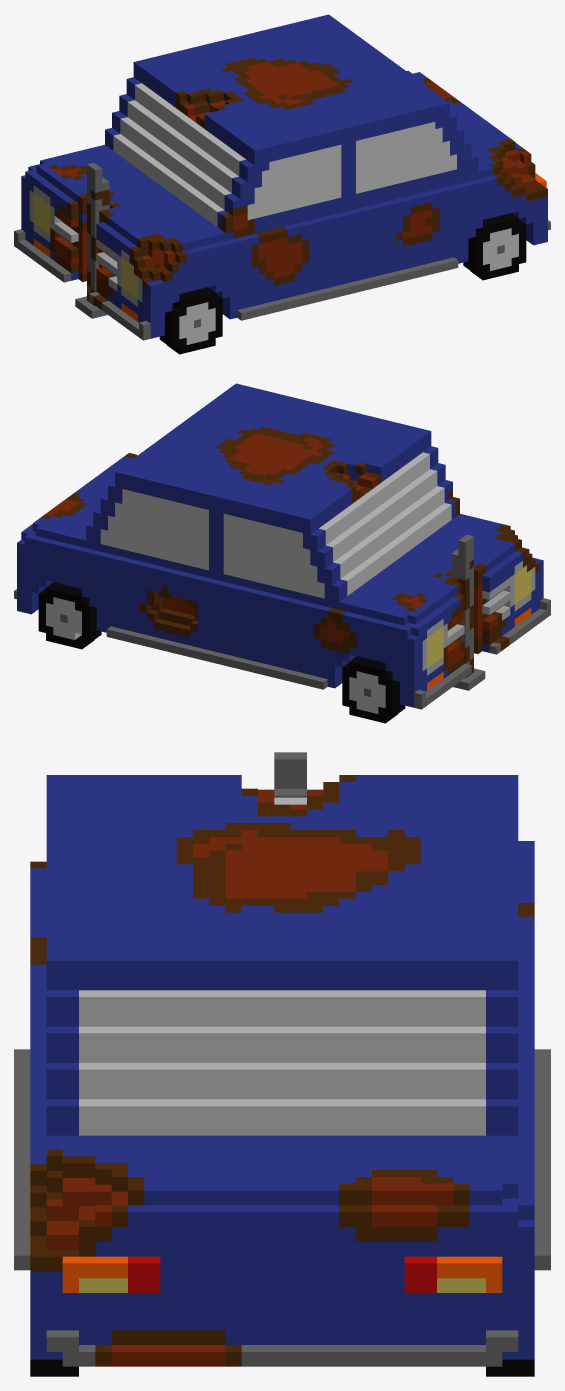
The model's file is damaged._whith_light.obj.
The picture shows the model from 3 angles, top to bottom: view 1: azimuth 30°, elevation 25°; view 2: azimuth 150°, elevation 25°; view 3: azimuth 270°, elevation 25°; orthographic projection. The views are drawn at different scales.
Size of the model in its own units: 5.7 by 2.4 by 3.3.
Materials: 1 (1 with a texture image).
